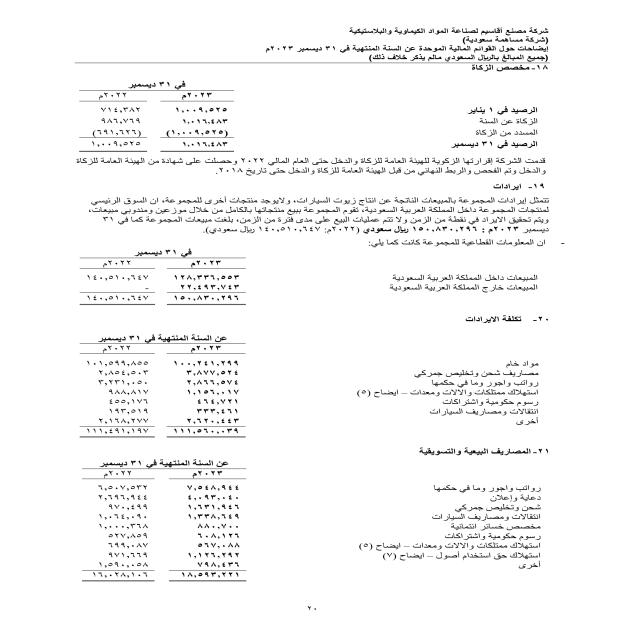notes: (449, 44, 550, 53)
table: (62, 450, 248, 597), (61, 328, 262, 441), (66, 68, 250, 160), (68, 240, 254, 313)
